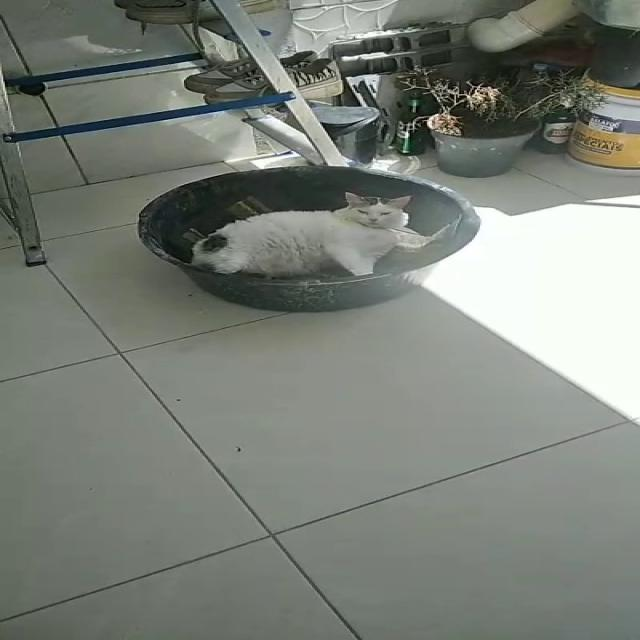Simba: (188, 189, 440, 277)
